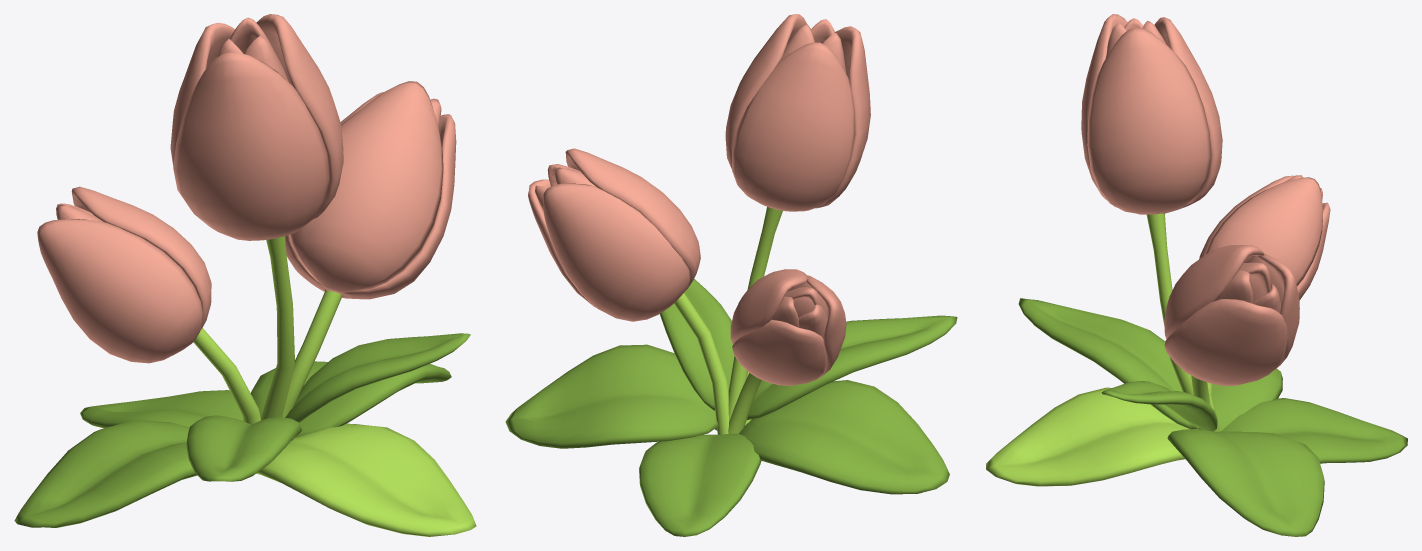
Rendered from Tulip_2.fbx.
The picture shows the model from 3 angles, left to right: view 1: azimuth 30°, elevation 25°; view 2: azimuth 150°, elevation 25°; view 3: azimuth 270°, elevation 25°; orthographic projection. The views are drawn at different scales.
Parts seen in each view (by area): view 1: Plane.002, Plane.010, Plane.016, Leaf.005, Leaf.002, Leaf.007, Leaf.006, Plane.003, Plane.018, Leaf.003, Leaf.004, NurbsPath.001 (+7 smaller); view 2: Plane.004, Leaf.002, Leaf.003, Plane.011, Leaf.004, Leaf.006, Plane.010, Plane.017, Leaf.007, Plane.002, Plane.003, Plane.018 (+7 smaller); view 3: Plane.003, Leaf.005, Leaf.003, Plane.012, Leaf.006, Plane.018, Leaf.004, Plane.010, Plane.004, Leaf.007, Leaf.002, NurbsPath.001 (+6 smaller).
Part boxes in pixels (left/top/right/bottom): Plane.002: left=173, top=52, right=329, bottom=240; Plane.010: left=288, top=81, right=443, bottom=293; Plane.016: left=37, top=219, right=202, bottom=363; Leaf.005: left=256, top=423, right=476, bottom=536; Leaf.002: left=14, top=420, right=197, bottom=527; Leaf.007: left=285, top=333, right=470, bottom=422; Leaf.006: left=186, top=415, right=301, bottom=481; Plane.003: left=256, top=14, right=343, bottom=219; Plane.018: left=71, top=186, right=211, bottom=329; Leaf.003: left=250, top=361, right=451, bottom=437; Leaf.004: left=80, top=390, right=242, bottom=428; NurbsPath.001: left=261, top=236, right=294, bottom=420; Plane.004: left=732, top=42, right=855, bottom=211; Leaf.002: left=739, top=380, right=949, bottom=494; Leaf.003: left=505, top=344, right=718, bottom=448; Plane.011: left=543, top=183, right=689, bottom=321; Leaf.004: left=639, top=433, right=761, bottom=536; Leaf.006: left=747, top=315, right=957, bottom=420; Plane.010: left=565, top=148, right=700, bottom=289; Plane.017: left=732, top=319, right=826, bottom=385; Leaf.007: left=660, top=279, right=734, bottom=410; Plane.002: left=815, top=26, right=870, bottom=208; Plane.003: left=725, top=14, right=810, bottom=168; Plane.018: left=730, top=269, right=807, bottom=344; Plane.003: left=1087, top=27, right=1211, bottom=214; Leaf.005: left=986, top=387, right=1190, bottom=486; Leaf.003: left=1167, top=429, right=1324, bottom=536; Plane.012: left=1164, top=299, right=1287, bottom=385; Leaf.006: left=1018, top=298, right=1196, bottom=429; Plane.018: left=1205, top=177, right=1322, bottom=286; Leaf.004: left=1220, top=398, right=1407, bottom=463; Plane.010: left=1164, top=245, right=1264, bottom=339; Plane.004: left=1154, top=17, right=1222, bottom=213; Leaf.007: left=1101, top=381, right=1217, bottom=431; Leaf.002: left=1212, top=368, right=1282, bottom=430; NurbsPath.001: left=1146, top=213, right=1201, bottom=429.
Bounding box in the file's own units: 0.7035 × 0.6429 × 0.7165.
